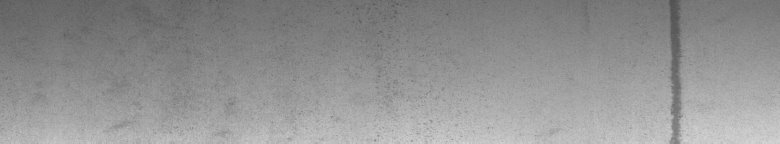hd: (665, 4, 688, 136)
